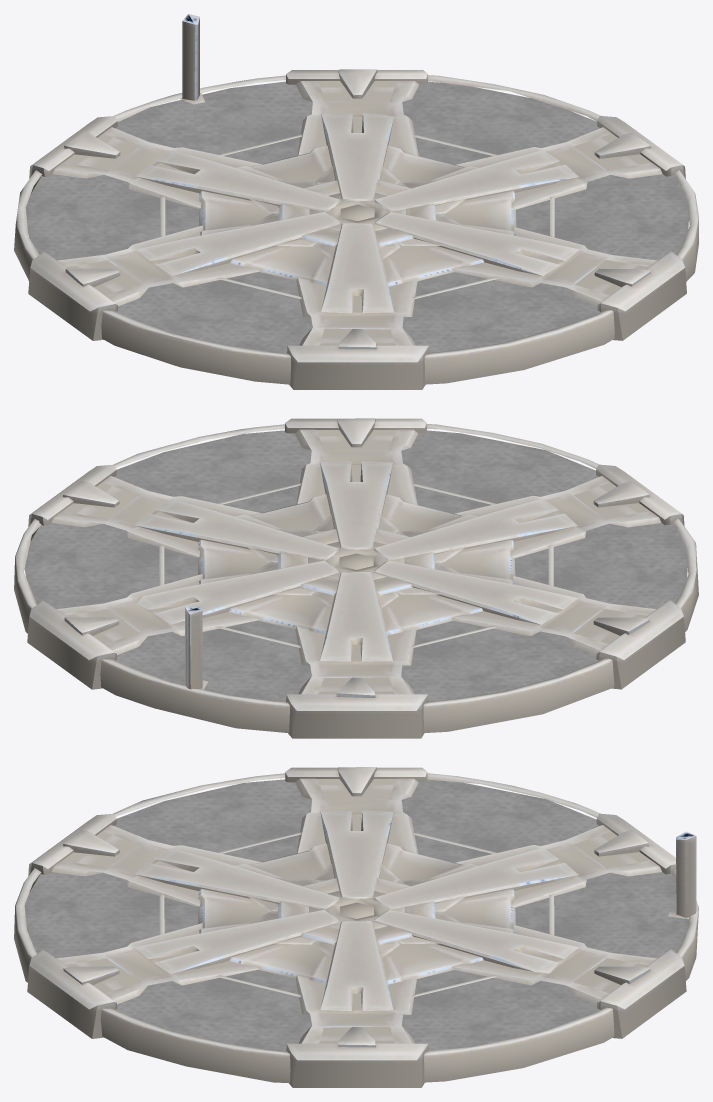
Rendered from TekTeleporter_C.glb.
The picture shows the model from 3 angles, top to bottom: view 1: azimuth 30°, elevation 25°; view 2: azimuth 150°, elevation 25°; view 3: azimuth 270°, elevation 25°; orthographic projection.
Parts seen in each view (by area): view 1: SM_Teleporter_Small; view 2: SM_Teleporter_Small; view 3: SM_Teleporter_Small.
Boxes of the visible parts, left/top/right/bottom form: SM_Teleporter_Small: left=14, top=14, right=698, bottom=389; SM_Teleporter_Small: left=14, top=418, right=698, bottom=738; SM_Teleporter_Small: left=14, top=767, right=698, bottom=1087.
Bounding box in the file's own units: 10.83 × 1.86 × 10.78.
Materials: 1 (1 with a texture image).
